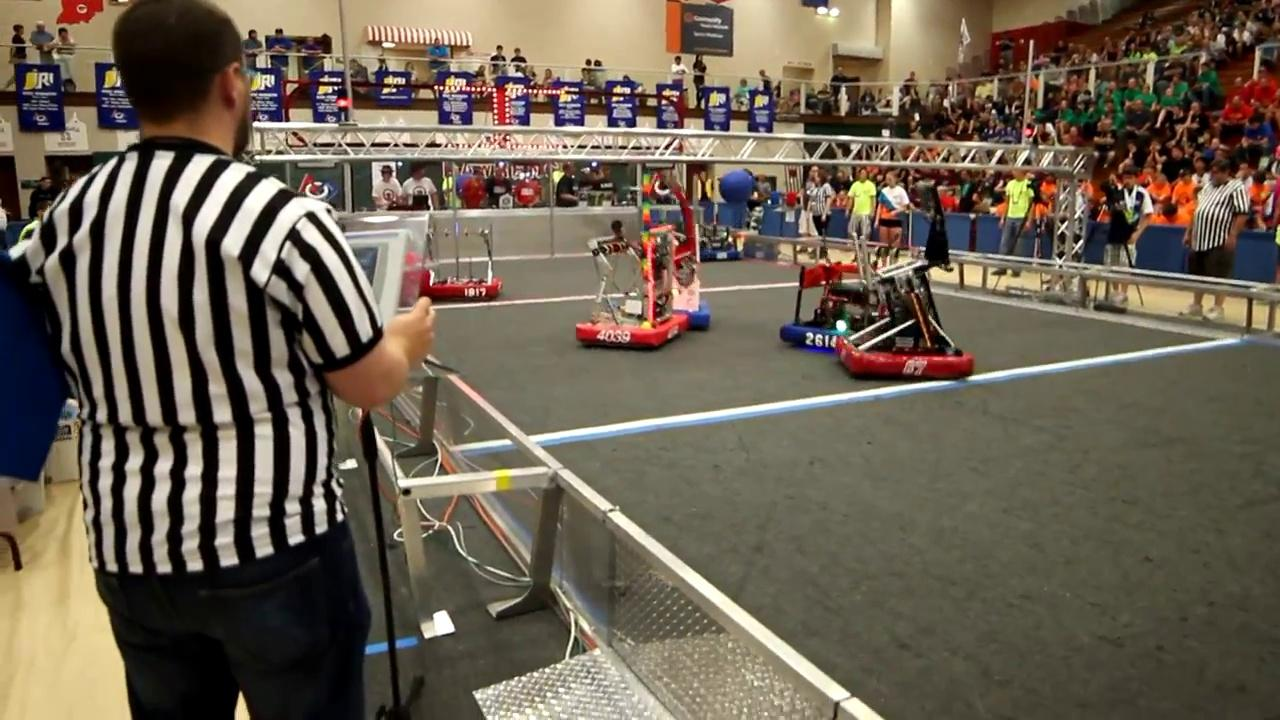robot: (833, 243, 982, 384), (571, 224, 692, 356), (779, 250, 892, 354), (631, 223, 716, 331), (413, 222, 508, 301)
